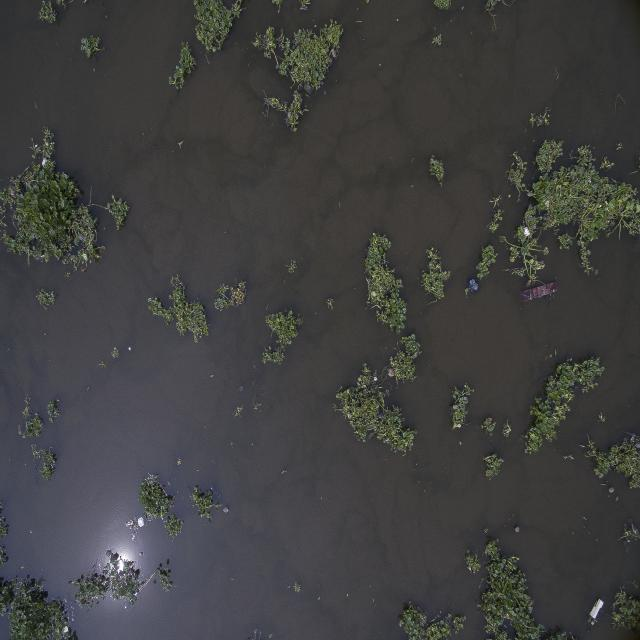debris: (521, 281, 560, 300), (587, 594, 605, 620), (159, 483, 169, 496), (387, 368, 398, 379), (136, 516, 146, 528), (513, 523, 522, 536), (61, 623, 69, 637), (16, 423, 23, 438), (78, 231, 86, 243), (523, 225, 530, 238), (41, 157, 49, 168), (222, 504, 230, 515), (331, 48, 337, 58), (543, 199, 549, 208), (603, 198, 609, 206), (372, 377, 380, 382), (127, 346, 133, 352), (34, 143, 39, 149)
plastic: (626, 511, 640, 543), (466, 276, 478, 292), (211, 486, 222, 498), (376, 407, 384, 419), (106, 549, 114, 560), (138, 550, 145, 557), (238, 385, 244, 393), (630, 434, 636, 442), (572, 382, 578, 390)
